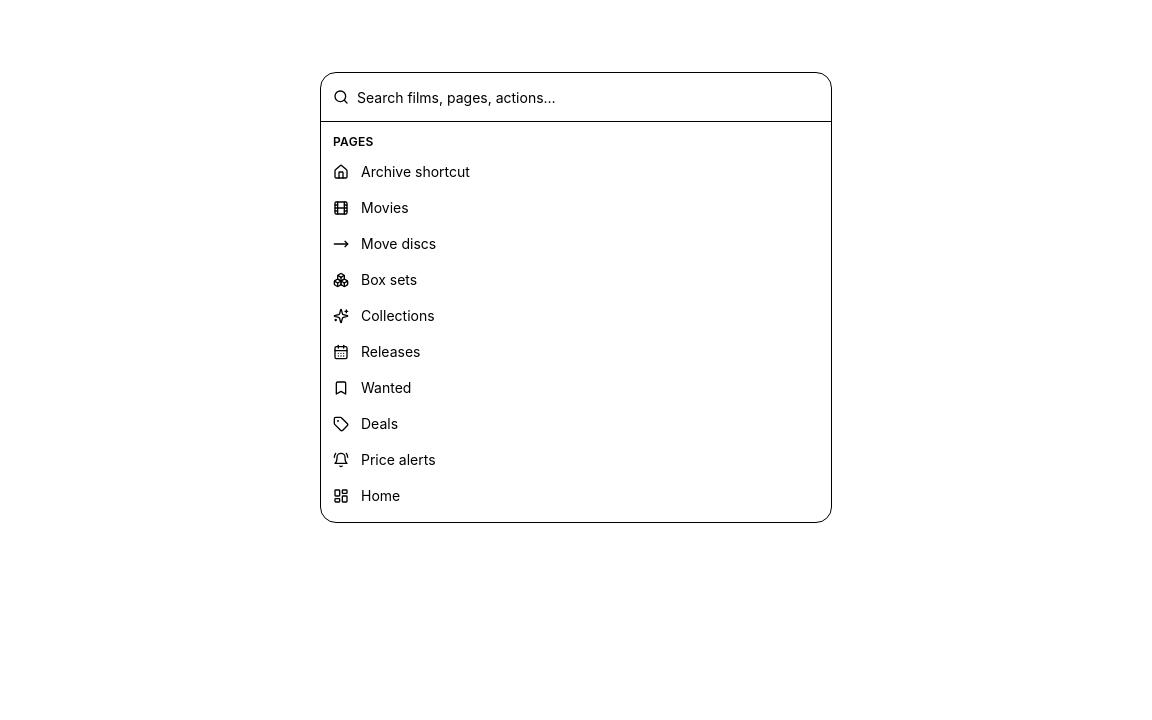
Test: CommandPalette › shows a "no results" state for a query that matches nothing
The width and height of the screenshot is (1152, 720).
Type "zzzzz" into the field with placeholder "Search films, pages, actions…". click: (588, 97)
box: x1=357 y1=73 x2=819 y2=121
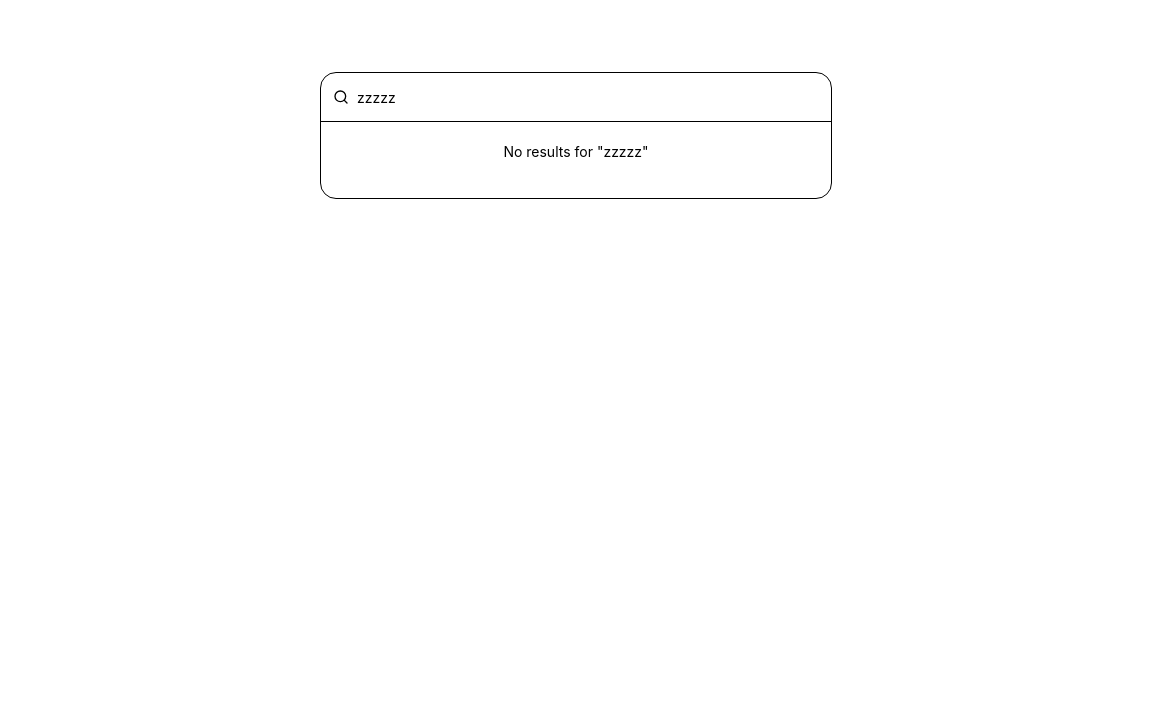
Expected: the list item "No results for \"zzzzz\"" is shown, x1=503 y1=143 x2=649 y2=160
